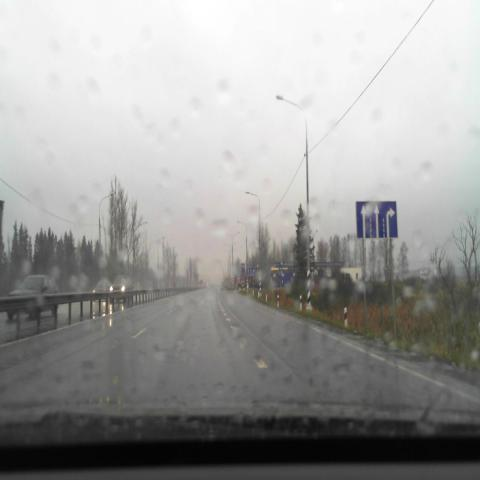5_15_1: (356, 201, 398, 239)
